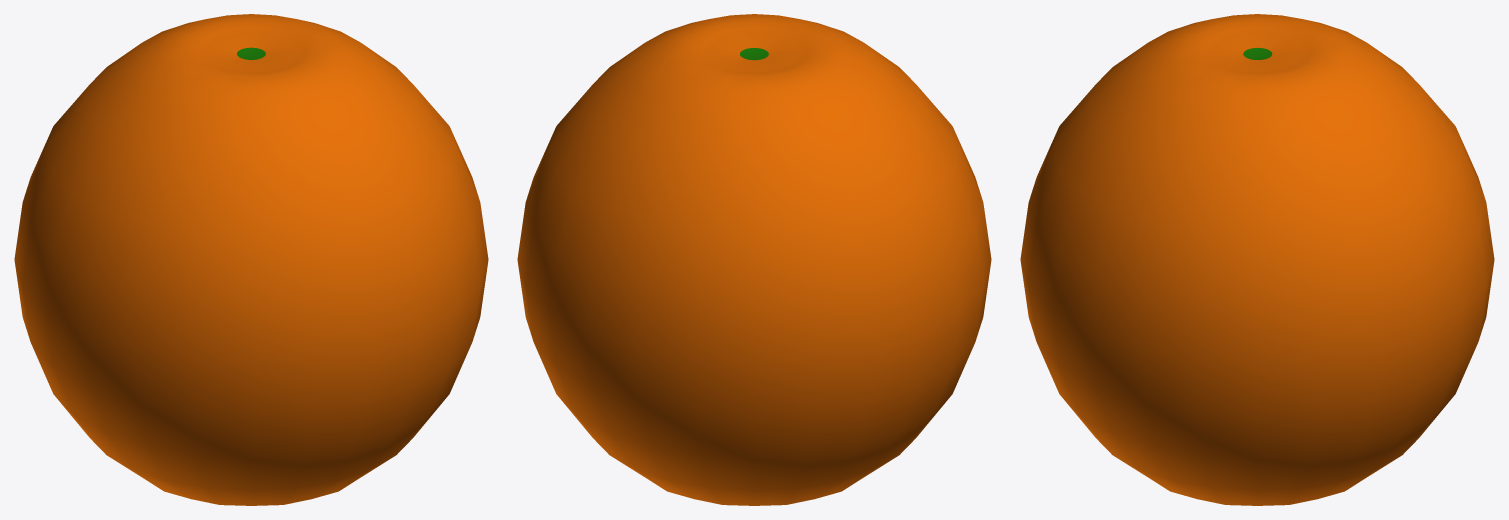
File: Orange.FBX
3 views of the same model, side by side, from view 1: azimuth 30°, elevation 25°; view 2: azimuth 150°, elevation 25°; view 3: azimuth 270°, elevation 25° (orthographic).
Visible parts, largest first — view 1: Sphere01; view 2: Sphere01; view 3: Sphere01.
Boxes of the visible parts, bbox=[...] form: Sphere01: bbox=[14, 14, 488, 505]; Sphere01: bbox=[517, 14, 991, 505]; Sphere01: bbox=[1020, 14, 1494, 505].
Bounding box in the file's own units: 5.6 × 5.58 × 5.6.
